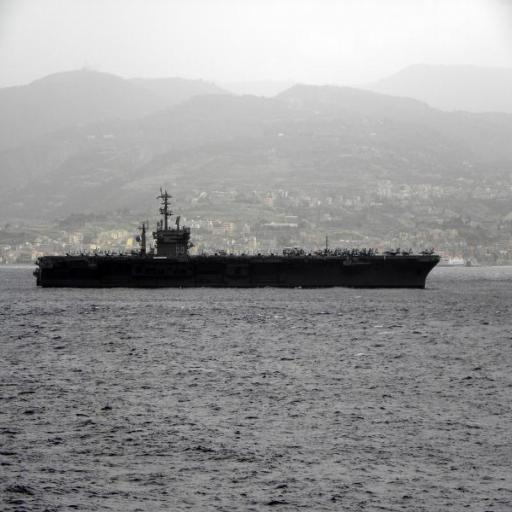Portanaves: (31, 188, 445, 292)
